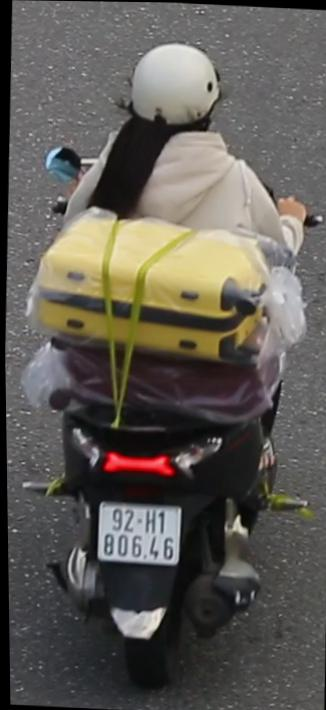LP: (87, 488, 186, 579)
helmet: (124, 33, 232, 134)
